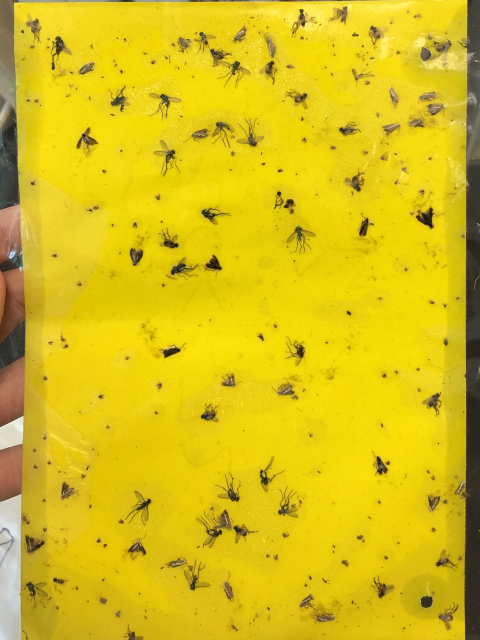DBM: (72, 126, 100, 159), (262, 29, 281, 65), (354, 210, 376, 240), (157, 340, 187, 360), (413, 206, 436, 232), (124, 534, 149, 557), (219, 569, 235, 604), (181, 127, 212, 145), (202, 253, 224, 278), (211, 509, 234, 532), (230, 22, 250, 47), (218, 371, 244, 390), (269, 379, 296, 397), (56, 479, 78, 501), (422, 491, 443, 513), (23, 533, 46, 553), (425, 100, 451, 117), (127, 245, 146, 268), (380, 120, 402, 139), (297, 592, 319, 611), (385, 85, 402, 109), (316, 607, 340, 623), (76, 60, 97, 78), (417, 87, 440, 103), (164, 555, 188, 570), (406, 113, 427, 129), (453, 477, 467, 498)
